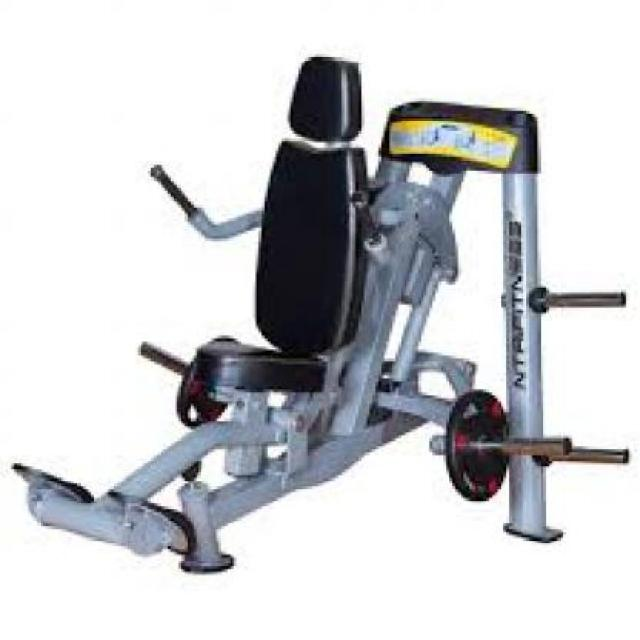seated dip machine: (12, 57, 634, 575)
